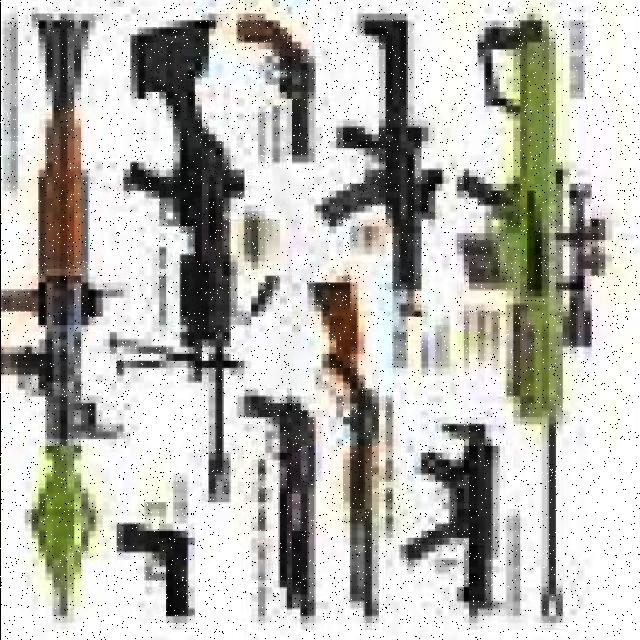Guns: (240, 19, 311, 158), (114, 522, 185, 616)
Rifle: (313, 283, 375, 618), (405, 427, 495, 605)
